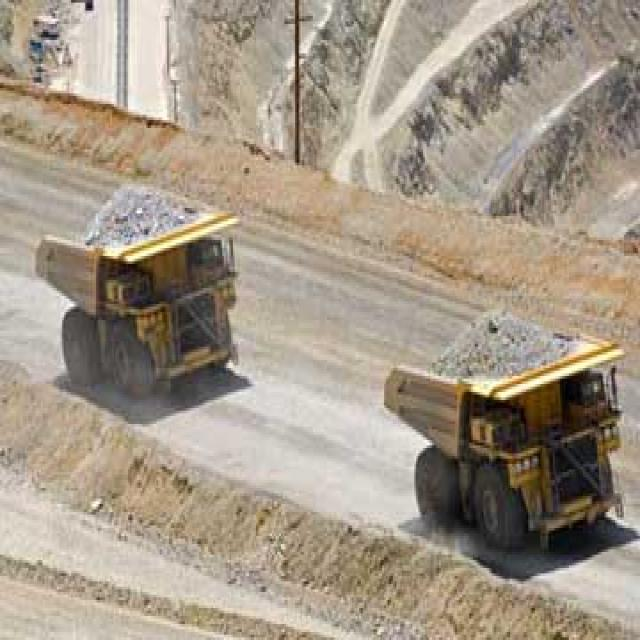dump_truck: (380, 277, 633, 547), (32, 176, 258, 405)
